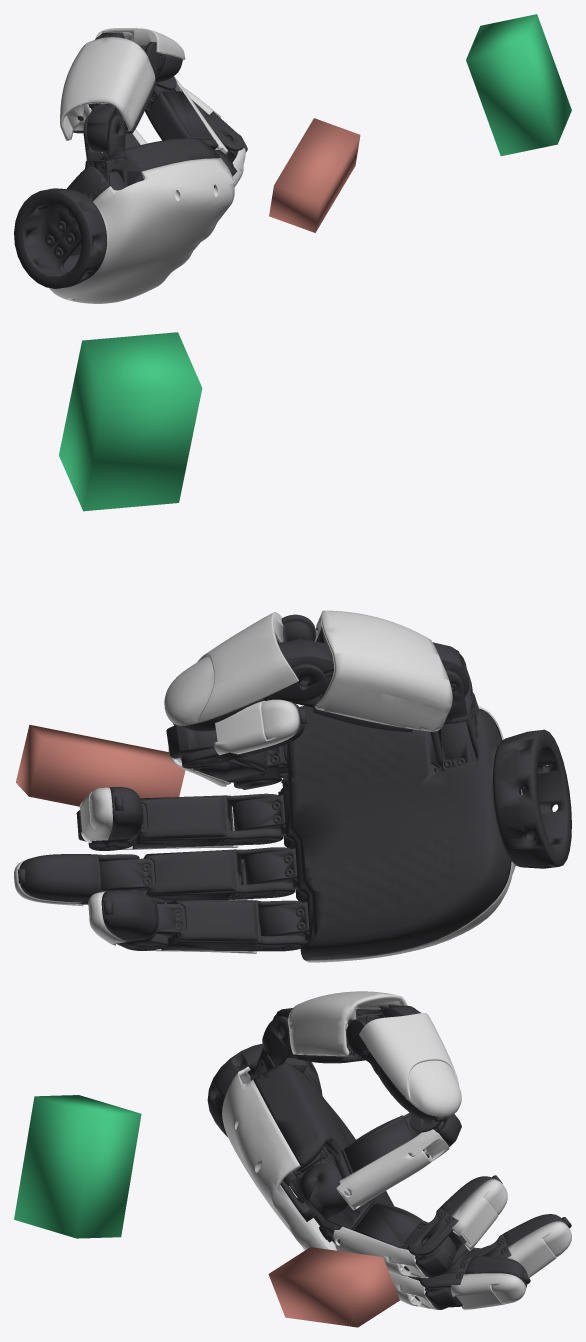
The picture shows the model from 3 angles, top to bottom: view 1: azimuth 30°, elevation 25°; view 2: azimuth 150°, elevation 25°; view 3: azimuth 270°, elevation 25°; orthographic projection. The views are drawn at different scales.
Parts seen in each view (by area): view 1: HAND__000__right_hand_back_link.STL__material, HAND__008__right_hand_link.STL__material, OBJECT__00__recorded_box, HAND__028__right_hand_thumb_rotaback_link1.STL__material, OBJECT__01__recorded_box, HAND__003__right_hand_index_rota_link1.STL__material, HAND__024__right_hand_thumb_bend_link.STL__material, HAND__025__right_hand_thumb_rota_link1.STL__material, HAND__029__right_hand_thumb_rotaback_link2.STL__material, HAND__026__right_hand_thumb_rota_link2.STL__material, HAND__010__right_hand_mid_link2.STL__material, HAND__006__right_hand_index_rotaback_link1.STL__material; view 2: HAND__008__right_hand_link.STL__material, OBJECT__00__recorded_box, HAND__028__right_hand_thumb_rotaback_link1.STL__material, OBJECT__01__recorded_box, HAND__029__right_hand_thumb_rotaback_link2.STL__material, HAND__019__right_hand_ring_link1.STL__material, HAND__014__right_hand_pinky_link1.STL__material, HAND__009__right_hand_mid_link1.STL__material, HAND__020__right_hand_ring_link2.STL__material, HAND__007__right_hand_index_rotaback_link2.STL__material, HAND__025__right_hand_thumb_rota_link1.STL__material, HAND__015__right_hand_pinky_link2.STL__material (+9 smaller); view 3: OBJECT__00__recorded_box, HAND__008__right_hand_link.STL__material, OBJECT__01__recorded_box, HAND__000__right_hand_back_link.STL__material, HAND__029__right_hand_thumb_rotaback_link2.STL__material, HAND__028__right_hand_thumb_rotaback_link1.STL__material, HAND__009__right_hand_mid_link1.STL__material, HAND__006__right_hand_index_rotaback_link1.STL__material, HAND__003__right_hand_index_rota_link1.STL__material, HAND__002__right_hand_index_bend_link.STL__material, HAND__010__right_hand_mid_link2.STL__material, HAND__013__right_hand_midback_link2.STL__material (+10 smaller).
Boxes of the visible parts, x1,y1,x2,y2 form: HAND__000__right_hand_back_link.STL__material: [49, 158, 234, 303]; HAND__008__right_hand_link.STL__material: [14, 138, 220, 288]; OBJECT__00__recorded_box: [466, 14, 571, 156]; HAND__028__right_hand_thumb_rotaback_link1.STL__material: [60, 37, 155, 140]; OBJECT__01__recorded_box: [269, 118, 360, 232]; HAND__003__right_hand_index_rota_link1.STL__material: [145, 86, 218, 149]; HAND__024__right_hand_thumb_bend_link.STL__material: [83, 115, 127, 186]; HAND__025__right_hand_thumb_rota_link1.STL__material: [73, 32, 156, 151]; HAND__029__right_hand_thumb_rotaback_link2.STL__material: [95, 28, 185, 60]; HAND__026__right_hand_thumb_rota_link2.STL__material: [139, 42, 182, 82]; HAND__010__right_hand_mid_link2.STL__material: [192, 100, 243, 151]; HAND__006__right_hand_index_rotaback_link1.STL__material: [174, 76, 228, 154]; HAND__008__right_hand_link.STL__material: [232, 706, 571, 960]; OBJECT__00__recorded_box: [59, 332, 202, 511]; HAND__028__right_hand_thumb_rotaback_link1.STL__material: [315, 610, 452, 731]; OBJECT__01__recorded_box: [16, 724, 185, 806]; HAND__029__right_hand_thumb_rotaback_link2.STL__material: [164, 612, 298, 725]; HAND__019__right_hand_ring_link1.STL__material: [99, 847, 295, 903]; HAND__014__right_hand_pinky_link1.STL__material: [156, 899, 306, 951]; HAND__009__right_hand_mid_link1.STL__material: [76, 793, 283, 848]; HAND__020__right_hand_ring_link2.STL__material: [19, 854, 141, 904]; HAND__007__right_hand_index_rotaback_link2.STL__material: [213, 699, 299, 755]; HAND__025__right_hand_thumb_rota_link1.STL__material: [278, 626, 469, 732]; HAND__015__right_hand_pinky_link2.STL__material: [101, 890, 168, 950]; OBJECT__00__recorded_box: [14, 1095, 141, 1238]; HAND__008__right_hand_link.STL__material: [207, 1043, 393, 1243]; OBJECT__01__recorded_box: [268, 1247, 399, 1327]; HAND__000__right_hand_back_link.STL__material: [222, 1066, 336, 1250]; HAND__029__right_hand_thumb_rotaback_link2.STL__material: [359, 1013, 461, 1116]; HAND__028__right_hand_thumb_rotaback_link1.STL__material: [288, 991, 407, 1056]; HAND__009__right_hand_mid_link1.STL__material: [326, 1202, 456, 1277]; HAND__006__right_hand_index_rotaback_link1.STL__material: [336, 1129, 449, 1210]; HAND__003__right_hand_index_rota_link1.STL__material: [334, 1112, 461, 1178]; HAND__002__right_hand_index_bend_link.STL__material: [283, 1145, 348, 1219]; HAND__010__right_hand_mid_link2.STL__material: [408, 1176, 494, 1275]; HAND__013__right_hand_midback_link2.STL__material: [451, 1179, 507, 1250].
Bounding box in the file's own units: 0.2626 × 0.1617 × 0.2454.
